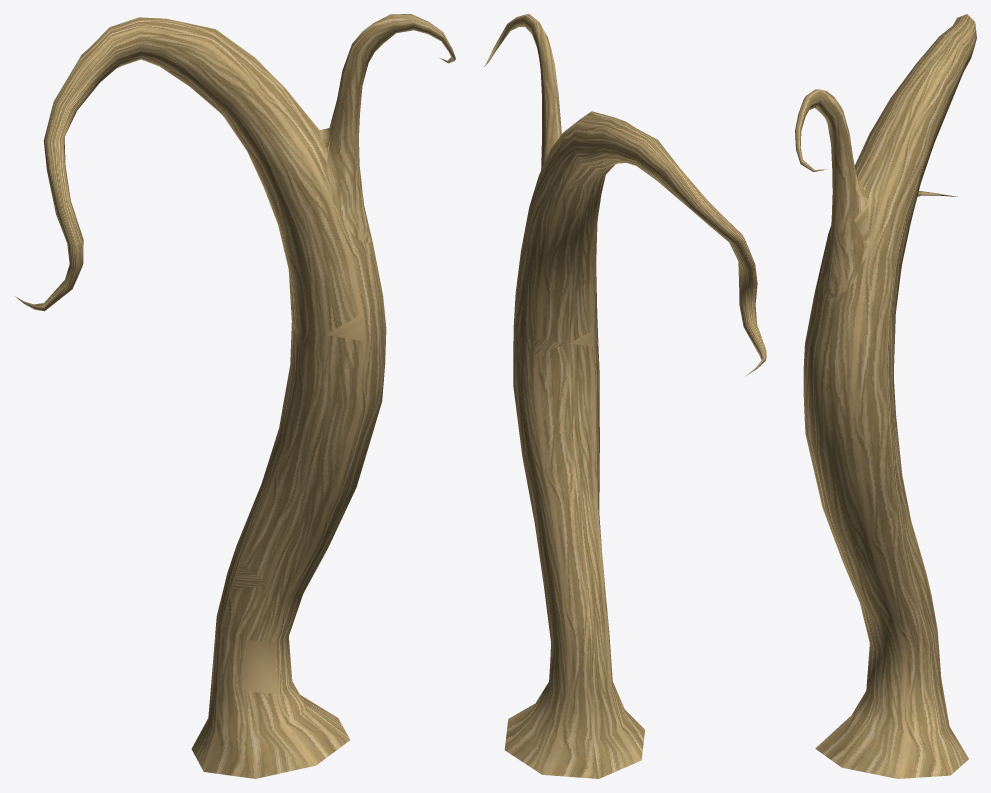
File: EKH_BARRELROOM_PS_JA1_TREE02.fbx
The picture shows the model from 3 angles, left to right: view 1: azimuth 30°, elevation 25°; view 2: azimuth 150°, elevation 25°; view 3: azimuth 270°, elevation 25°; orthographic projection. The views are drawn at different scales.
Parts seen in each view (by area): view 1: EKH_BARRELROOM_PS_JA1_TREE02; view 2: EKH_BARRELROOM_PS_JA1_TREE02; view 3: EKH_BARRELROOM_PS_JA1_TREE02.
Boxes of the visible parts, x1,y1,x2,y2 form: EKH_BARRELROOM_PS_JA1_TREE02: [15, 14, 455, 778]; EKH_BARRELROOM_PS_JA1_TREE02: [484, 14, 766, 778]; EKH_BARRELROOM_PS_JA1_TREE02: [795, 14, 976, 778].
Bounding box in the file's own units: 22380 × 44403 × 10268.
Materials: 1 (1 with a texture image).
